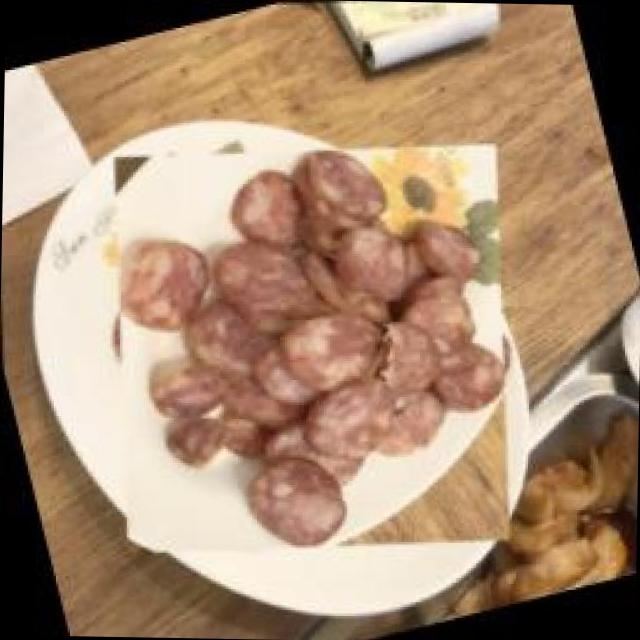chinese_sausage: (22, 60, 600, 638)
